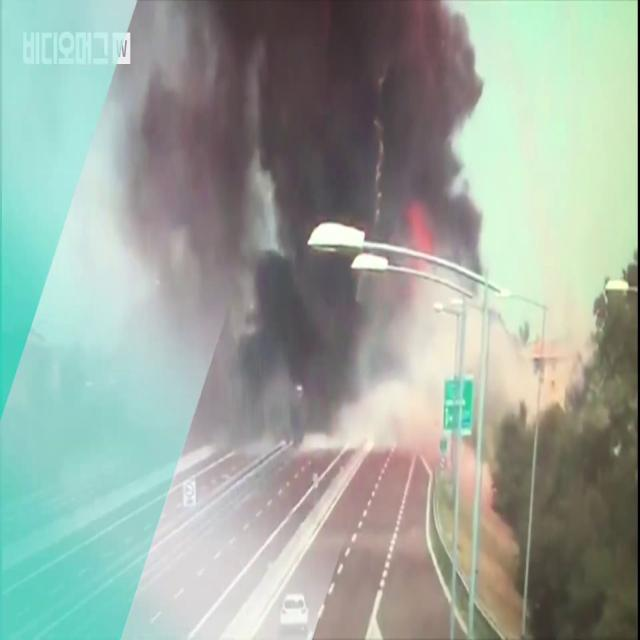explosion: (173, 0, 474, 443)
